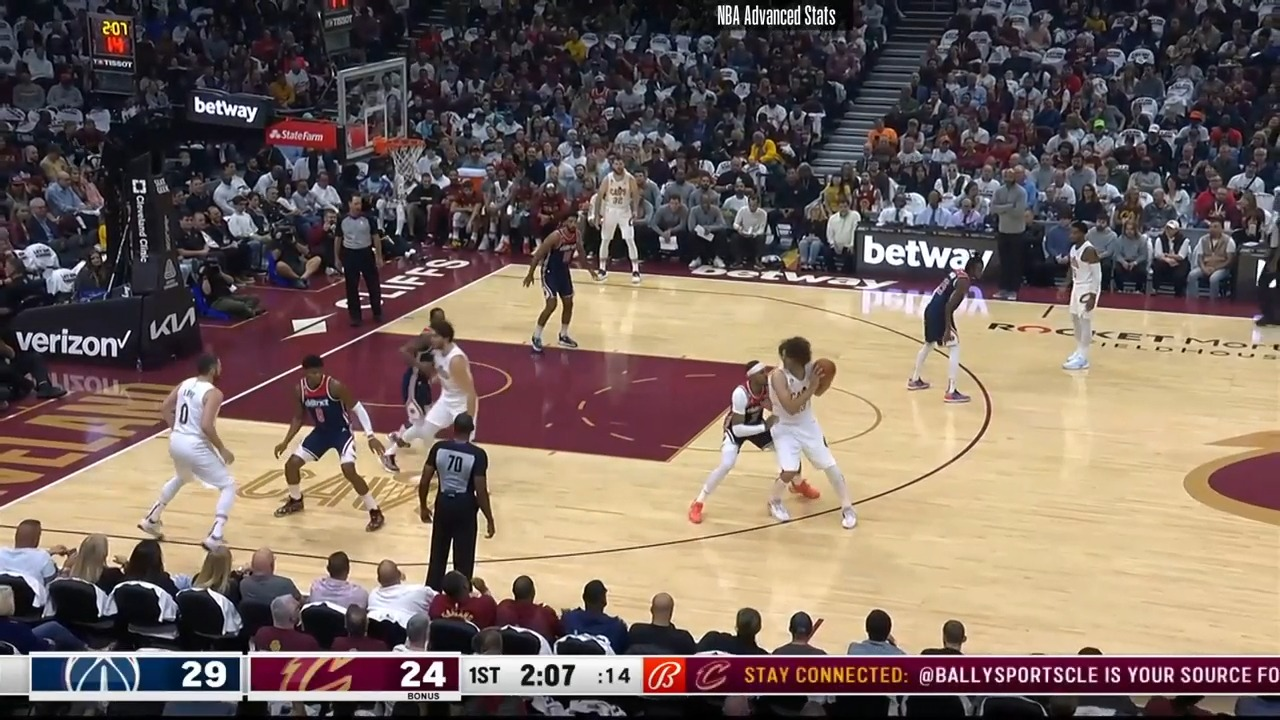net: (374, 131, 430, 183)
player: (137, 354, 246, 558), (751, 336, 862, 536), (275, 349, 381, 525), (688, 362, 782, 530), (407, 319, 485, 490), (913, 256, 992, 407), (385, 305, 450, 474), (525, 212, 592, 353), (585, 156, 639, 287), (1063, 223, 1107, 372)
referee: (413, 415, 496, 595), (341, 196, 392, 326)
